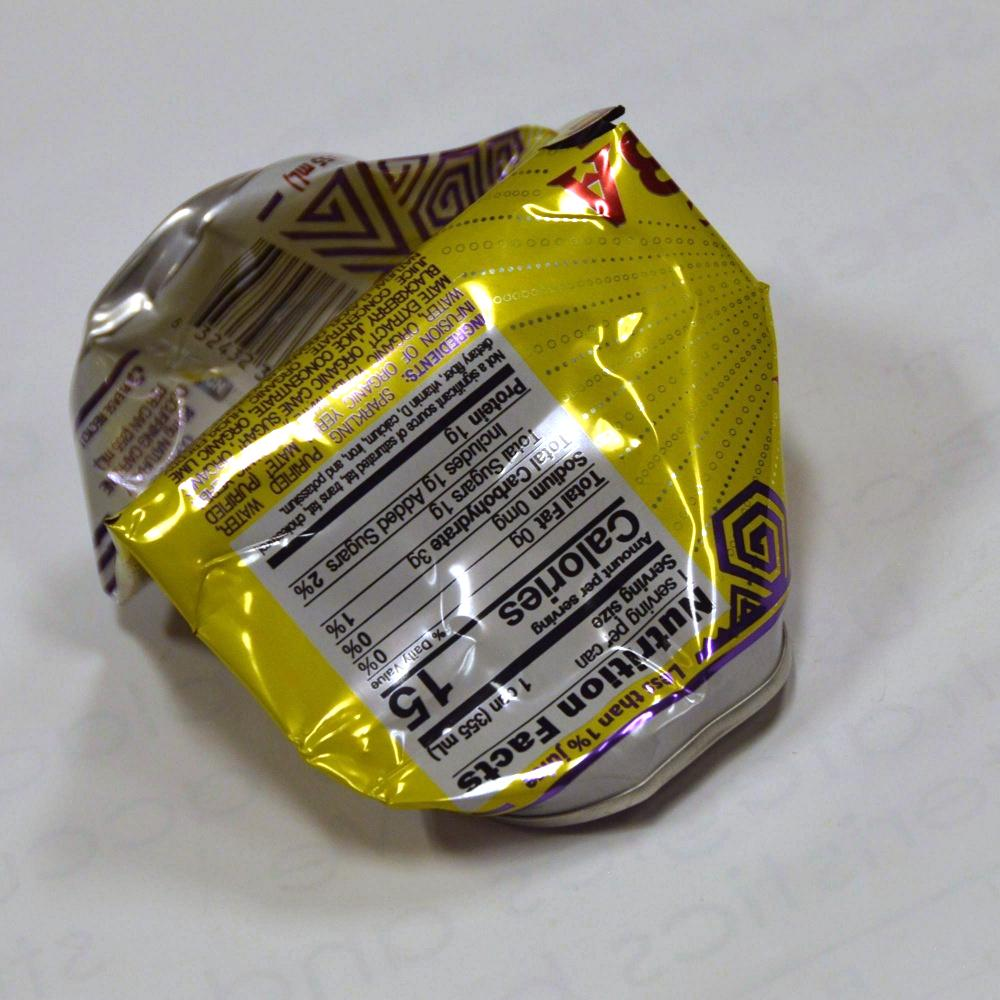Metal: (41, 110, 848, 902)
